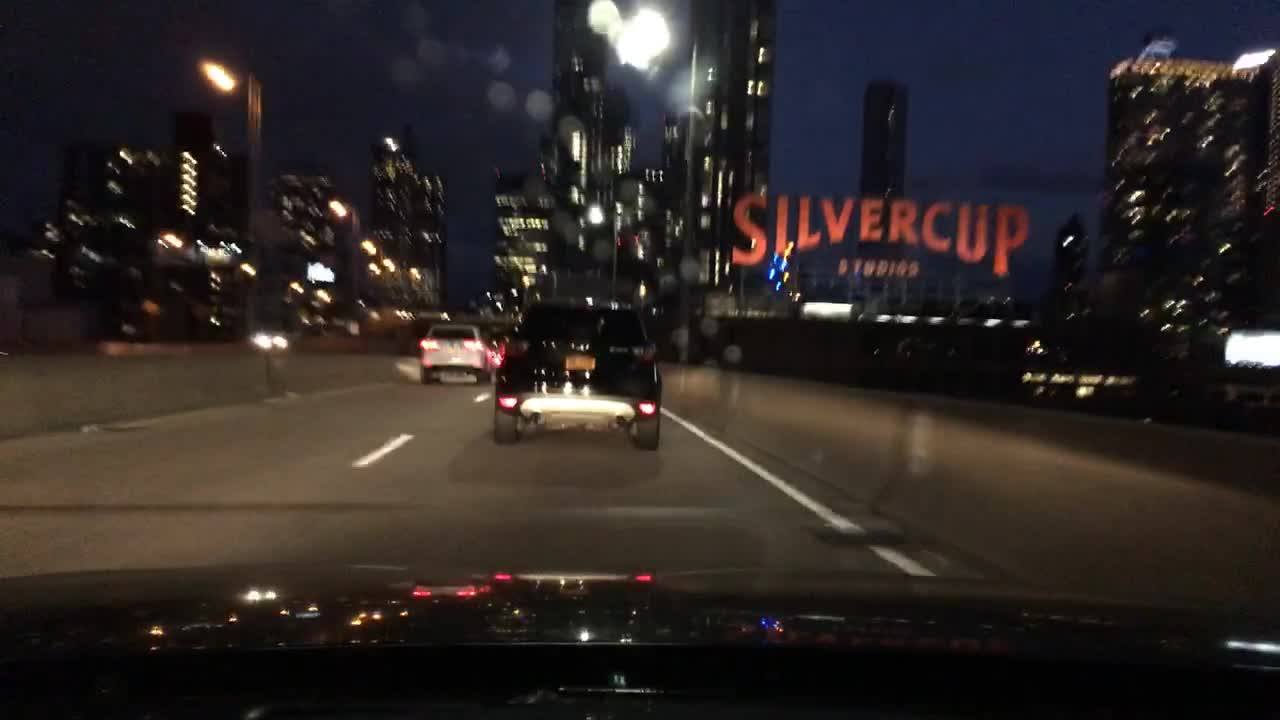car: (489, 295, 664, 447), (416, 323, 495, 384), (250, 327, 290, 355), (489, 337, 500, 356)
